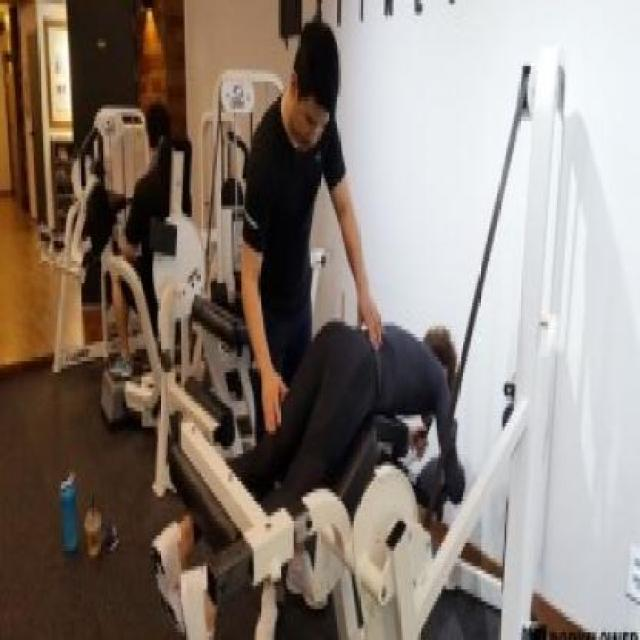reg curl machine: (149, 29, 583, 640)
